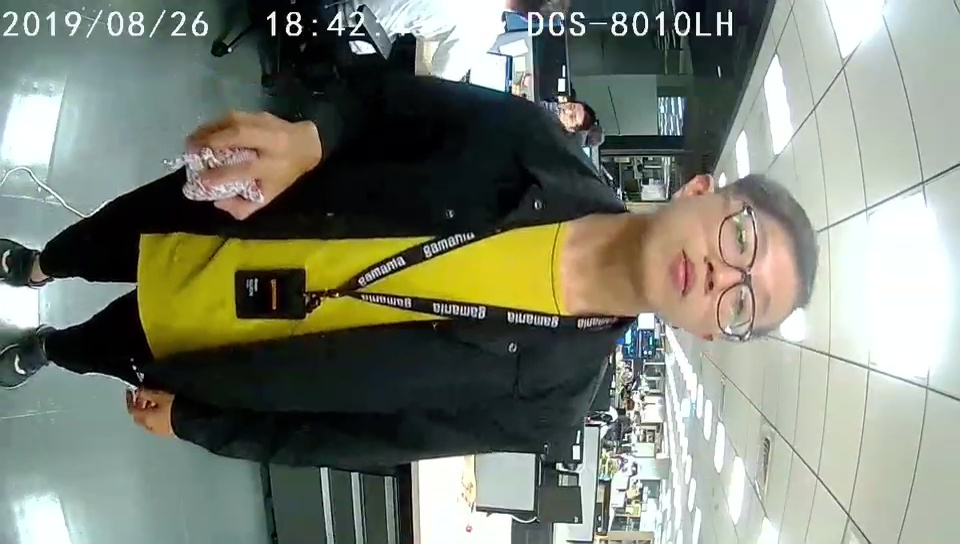pig: (162, 146, 268, 208)
